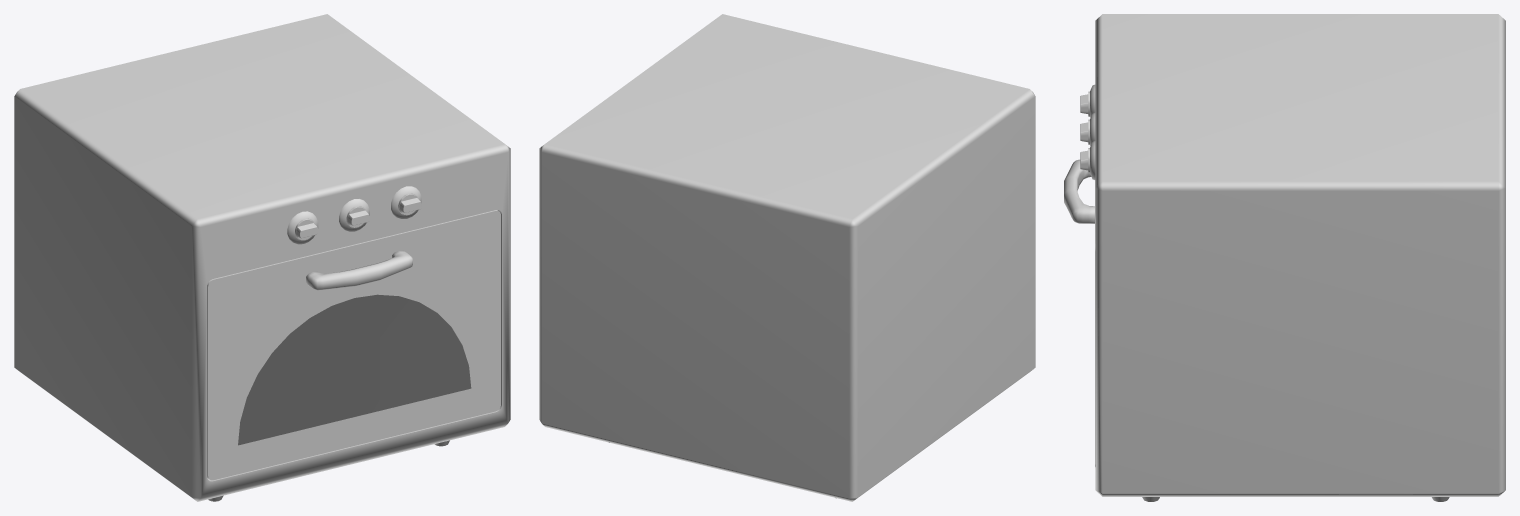
Rendered from oven 1.fbx.
The picture shows the model from 3 angles, left to right: view 1: azimuth 30°, elevation 25°; view 2: azimuth 150°, elevation 25°; view 3: azimuth 270°, elevation 25°; orthographic projection. The views are drawn at different scales.
Visible parts, largest first — view 1: oven, door; view 2: oven; view 3: oven, door.
Part boxes in pixels (x1,y1,x2,y2): oven: (14, 14, 510, 501); door: (207, 210, 500, 480); oven: (539, 14, 1035, 501); oven: (1095, 14, 1505, 496); door: (1064, 159, 1095, 466).
Bounding box in the file's own units: 277 × 253 × 298.
